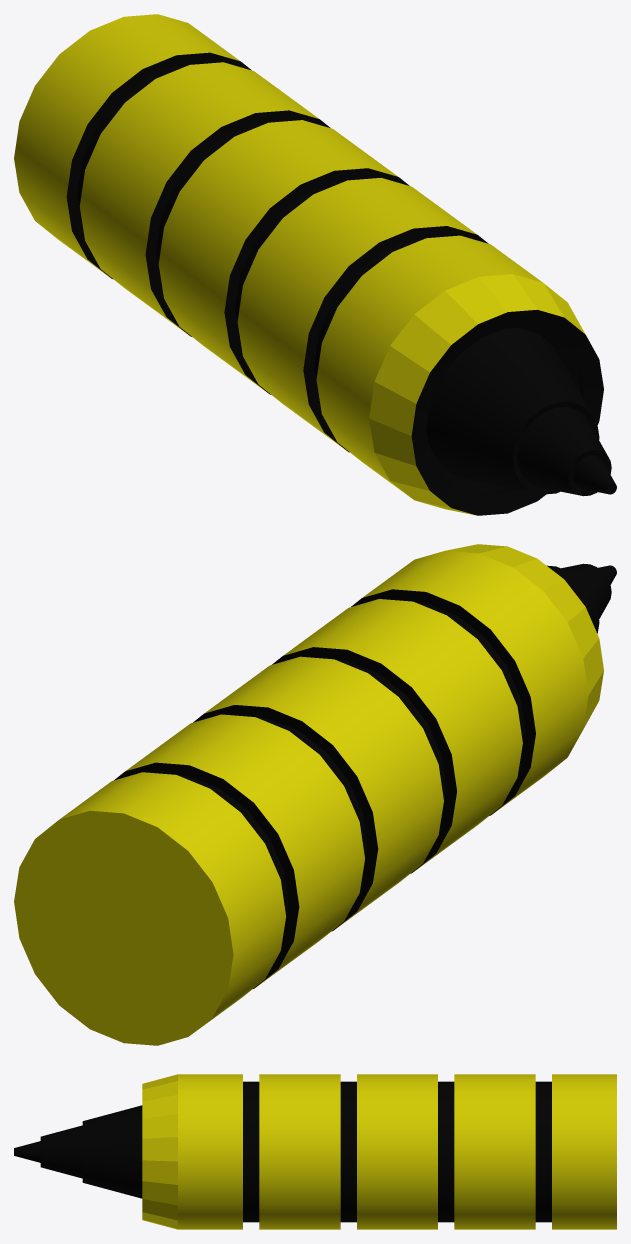
File: bullet.fbx
The picture shows the model from 3 angles, top to bottom: view 1: azimuth 30°, elevation 25°; view 2: azimuth 150°, elevation 25°; view 3: azimuth 270°, elevation 25°; orthographic projection. The views are drawn at different scales.
Visible parts, largest first — view 1: bullet; view 2: bullet; view 3: bullet.
Boxes of the visible parts, x1,y1,x2,y2 form: bullet: (14, 14, 616, 515); bullet: (14, 544, 616, 1045); bullet: (14, 1074, 616, 1229).
Size of the model in its own units: 0.2688 by 0.2688 by 1.03.
